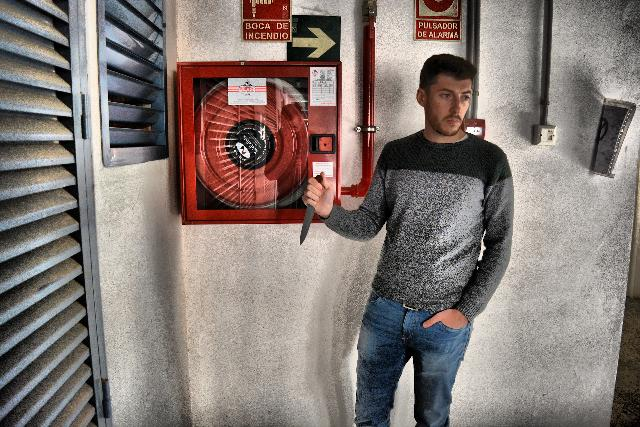knife: (298, 170, 324, 248)
